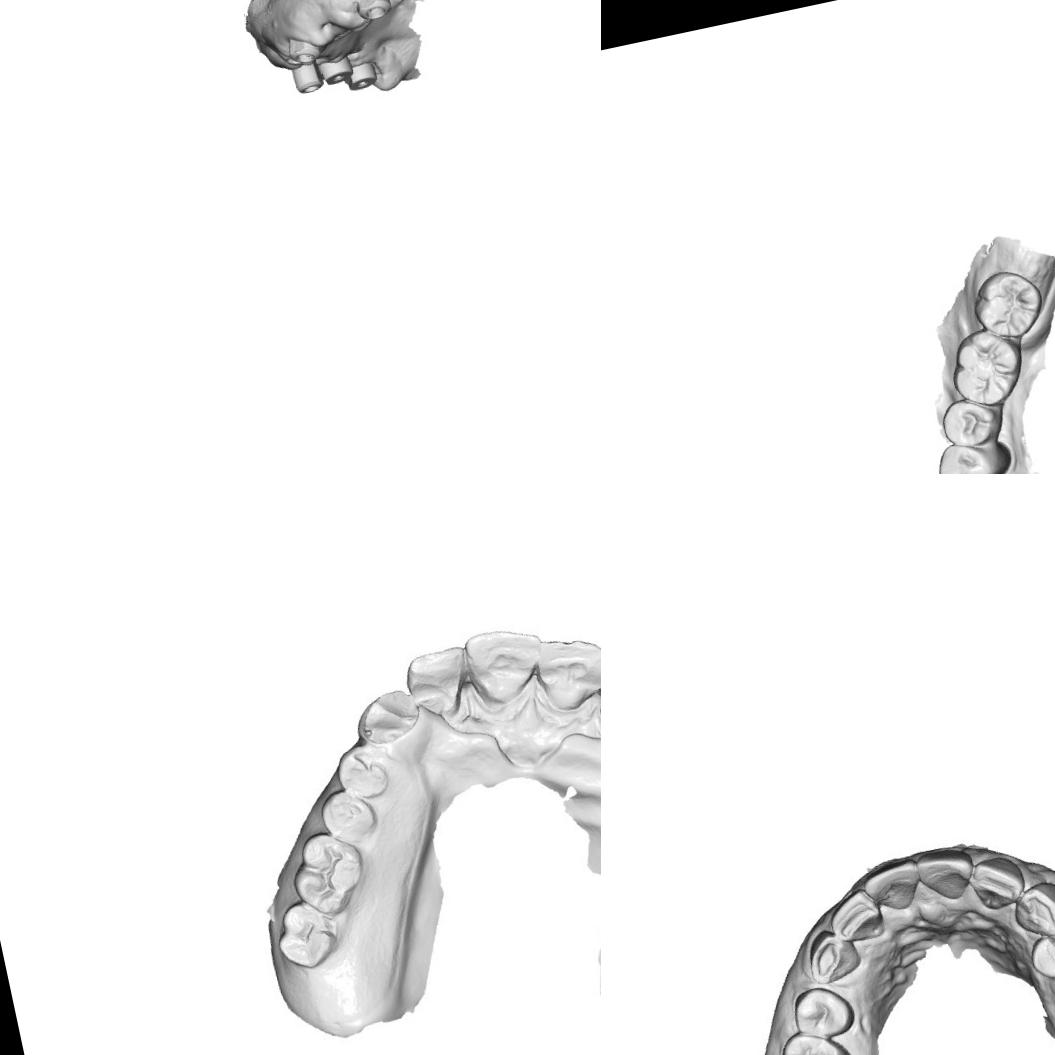canine: (347, 682, 422, 748), (798, 926, 862, 990), (1008, 877, 1055, 941)
implant: (278, 48, 329, 100), (313, 48, 360, 91), (341, 55, 387, 96), (347, 0, 399, 25)
incisor: (456, 620, 554, 710), (524, 625, 601, 717), (398, 640, 477, 723), (918, 844, 978, 905), (966, 854, 1023, 916), (866, 861, 926, 916), (834, 890, 884, 946)
molar: (284, 825, 372, 921), (944, 321, 1032, 413), (965, 263, 1047, 346), (268, 894, 346, 974), (772, 1024, 868, 1055)
premolar: (934, 391, 1002, 452), (333, 740, 395, 806), (316, 785, 378, 850), (792, 982, 856, 1038), (931, 434, 1010, 474), (1019, 919, 1055, 986)
